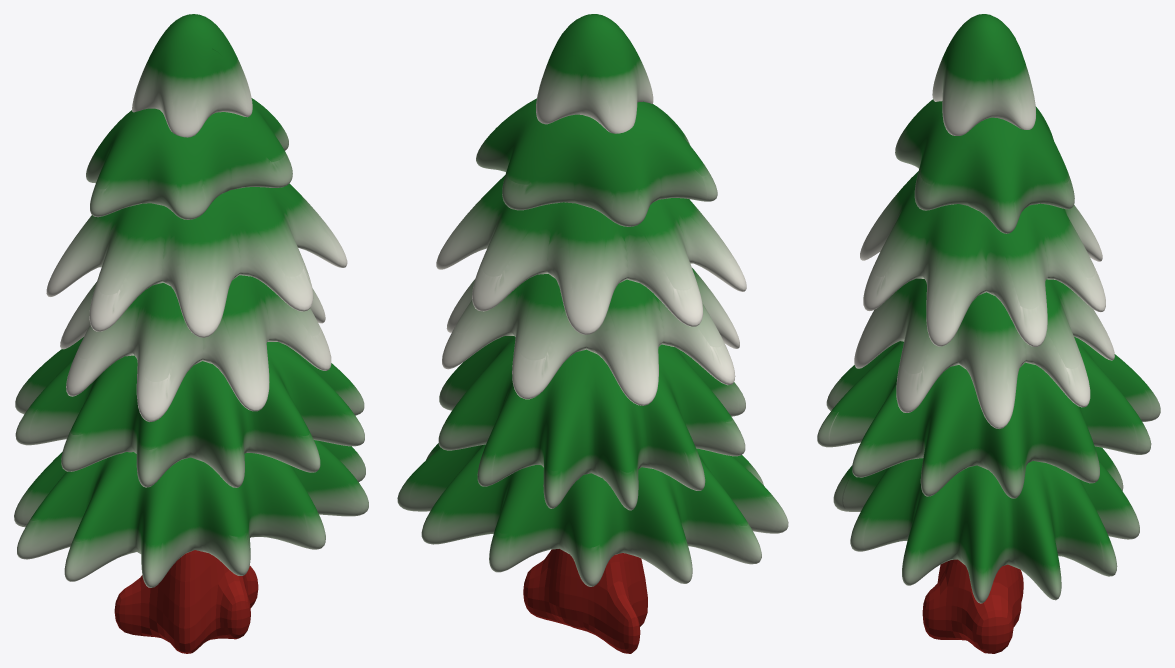
Rendered from trees.glb.
The picture shows the model from 3 angles, left to right: view 1: azimuth 30°, elevation 25°; view 2: azimuth 150°, elevation 25°; view 3: azimuth 270°, elevation 25°; orthographic projection.
Parts seen in each view (by area): view 1: Cylinder.067, Cylinder.068, Cylinder.070, Cylinder.069, Cylinder.071, Cylinder.073, Cylinder.072; view 2: Cylinder.068, Cylinder.067, Cylinder.070, Cylinder.069, Cylinder.071, Cylinder.072, Cylinder.073; view 3: Cylinder.068, Cylinder.067, Cylinder.070, Cylinder.069, Cylinder.071, Cylinder.072, Cylinder.073.
Part boxes in pixels (bbox=[...]): Cylinder.067: bbox=[14, 440, 368, 587]; Cylinder.068: bbox=[15, 337, 364, 487]; Cylinder.070: bbox=[46, 183, 347, 337]; Cylinder.069: bbox=[60, 275, 331, 421]; Cylinder.071: bbox=[86, 98, 292, 219]; Cylinder.073: bbox=[114, 550, 258, 653]; Cylinder.072: bbox=[132, 14, 252, 137]; Cylinder.068: bbox=[438, 336, 745, 510]; Cylinder.067: bbox=[397, 443, 788, 586]; Cylinder.070: bbox=[436, 175, 746, 334]; Cylinder.069: bbox=[442, 268, 739, 405]; Cylinder.071: bbox=[476, 98, 717, 226]; Cylinder.072: bbox=[536, 14, 653, 133]; Cylinder.073: bbox=[523, 549, 647, 653]; Cylinder.068: bbox=[817, 336, 1160, 498]; Cylinder.067: bbox=[833, 446, 1139, 603]; Cylinder.070: bbox=[860, 171, 1105, 346]; Cylinder.069: bbox=[854, 278, 1114, 428]; Cylinder.071: bbox=[895, 99, 1074, 233]; Cylinder.072: bbox=[932, 14, 1035, 135]; Cylinder.073: bbox=[922, 559, 1023, 653].
Bounding box in the file's own units: 0.4246 × 0.7342 × 0.367.
3 materials, 2 textured.
